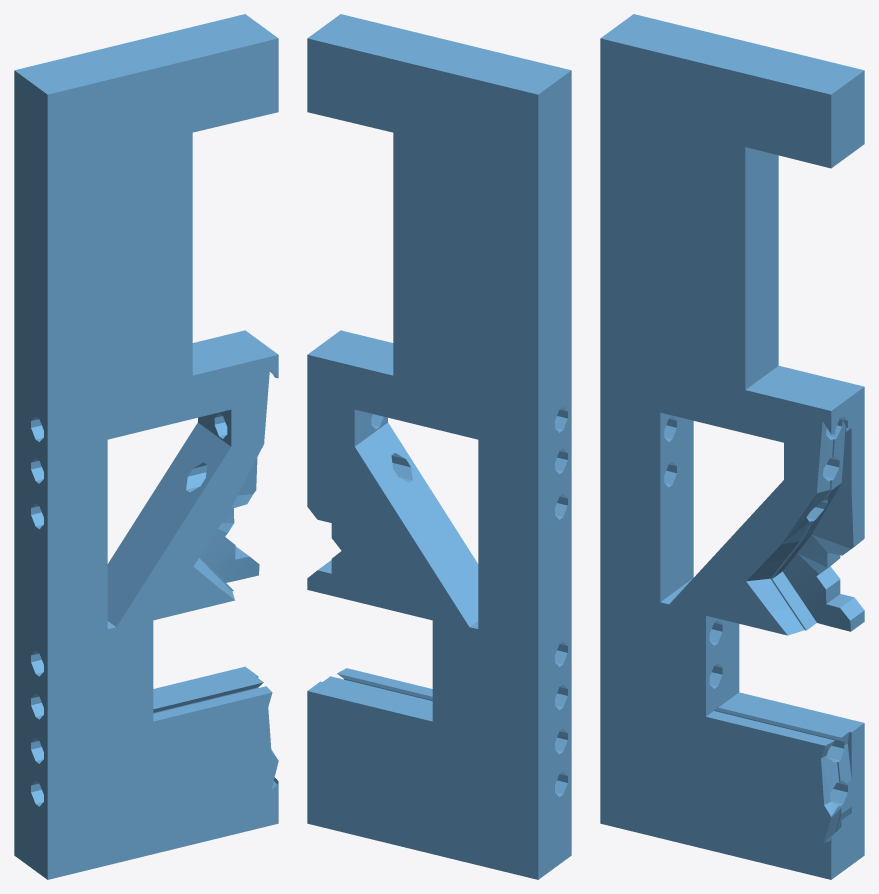
File: Door_wingLeft.fbx
3 renders of one model, left to right at view 1: azimuth 30°, elevation 25°; view 2: azimuth 150°, elevation 25°; view 3: azimuth 330°, elevation 25°, orthographic.
Visible parts, largest first — view 1: Door_wingLeft; view 2: Door_wingLeft; view 3: Door_wingLeft.
Boxes of the visible parts, <box> form: Door_wingLeft: <box>14,14,278,879</box>; Door_wingLeft: <box>307,14,571,879</box>; Door_wingLeft: <box>600,14,864,879</box>.
Bounding box in the file's own units: 2 × 6.5 × 0.5.
